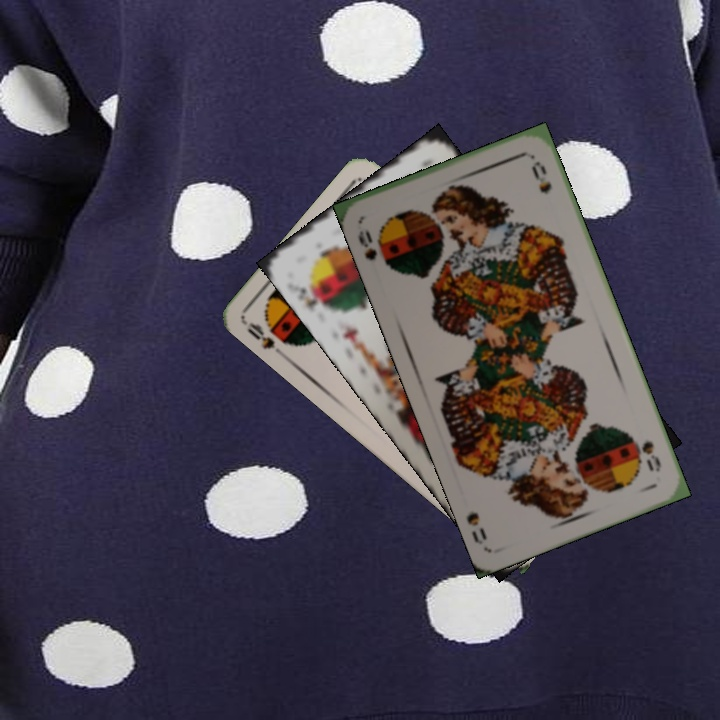SK: (288, 280, 321, 313)
SO: (243, 318, 299, 363), (632, 436, 664, 475), (353, 226, 380, 263)
